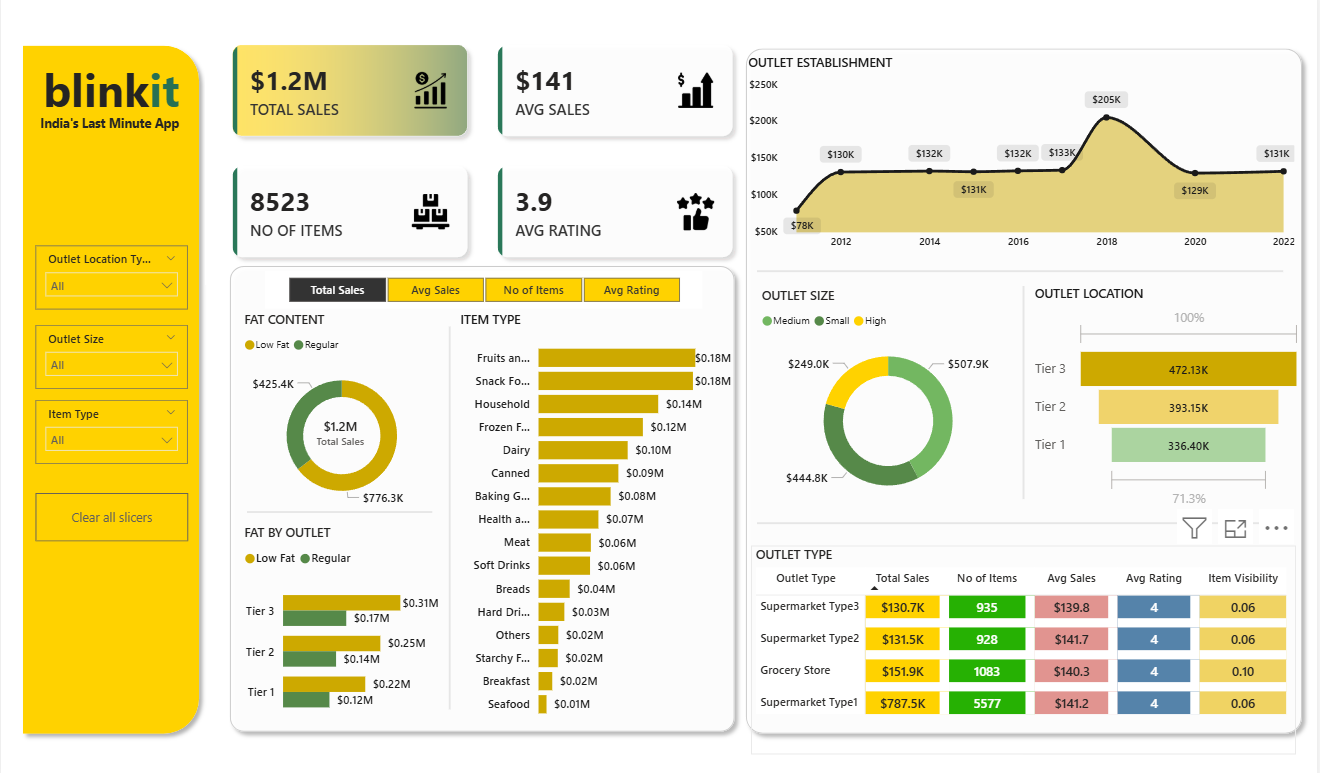

Layout of this report page (visuals, bound fields, positions):
{"tool":"powerbi","page":{"name":"Page 1","canvas":[1400,850],"ordinal":0},"visuals":[{"type":"shape","box":[14.9,51.3,205.4,750.2],"z":0},{"type":"textbox","box":[24.8,67.9,183.8,89.4],"z":1000},{"type":"textbox","box":[36.4,127.5,162.3,44.7],"z":2000},{"type":"cardVisual","fields":{"Data":["BlinkIT Grocery Data.Total Sales","BlinkIT Grocery Data.Avg Sales","BlinkIT Grocery Data.No of Items","BlinkIT Grocery Data.Avg Rating"]},"box":[217,29.8,591.8,284.9],"z":3000},{"type":"shape","box":[234.6,284.9,554.8,513.4],"z":4000},{"type":"donutChart","title":"FAT CONTENT","fields":{"Y":["BlinkIT Grocery Data.Total Sales"],"Category":["BlinkIT Grocery Data.Item Fat Content"]},"box":[253.4,341.2,217,221.9],"z":5000},{"type":"slicer","fields":{"Values":["Matrix.Matrix"]},"box":[280.4,300.3,465.4,39.7],"z":6000},{"type":"cardVisual","fields":{"Data":["BlinkIT Grocery Data.Total Sales"]},"box":[306.2,439.1,109.4,65.6],"z":7000},{"type":"clusteredBarChart","title":"FAT BY OUTLET","fields":{"Y":["BlinkIT Grocery Data.Total Sales"],"Category":["BlinkIT Grocery Data.Outlet Location Type"],"Series":["BlinkIT Grocery Data.Item Fat Content"]},"box":[253.8,567.7,216.9,220],"z":8000},{"type":"shape","box":[261.7,548.2,197.1,14.9],"z":9000},{"type":"shape","box":[470.3,359.4,13.2,407.4],"z":10000},{"type":"barChart","title":"ITEM TYPE","fields":{"Y":["BlinkIT Grocery Data.Total Sales"],"Category":["BlinkIT Grocery Data.Item Type"]},"box":[483.6,341.2,298.1,443.9],"z":11000},{"type":"shape","box":[783.4,54.7,609.5,746.9],"z":12000},{"type":"lineChart","title":"OUTLET ESTABLISHMENT","fields":{"Category":["BlinkIT Grocery Data.Outlet Establishment Year"],"Y":["BlinkIT Grocery Data.Total Sales"]},"box":[790,67.9,591.2,217],"z":13000},{"type":"shape","box":[804.9,294.8,559.8,9.9],"z":14000},{"type":"donutChart","title":"OUTLET SIZE","fields":{"Y":["BlinkIT Grocery Data.Total Sales"],"Category":["BlinkIT Grocery Data.Outlet Size"]},"box":[804.9,316.3,278.2,241.8],"z":15000},{"type":"shape","box":[1079.8,316.3,14.9,226.9],"z":16000},{"type":"funnel","title":"OUTLET LOCATION","fields":{"Category":["BlinkIT Grocery Data.Outlet Location Type"],"Y":["Sum(BlinkIT Grocery Data.Sales)"]},"box":[1094.7,314.7,293.1,241.8],"z":17000},{"type":"shape","box":[804.9,563.1,559.8,9.9],"z":18000},{"type":"pivotTable","title":"OUTLET TYPE","fields":{"Rows":["BlinkIT Grocery Data.Outlet Type"],"Values":["BlinkIT Grocery Data.Total Sales","BlinkIT Grocery Data.No of Items","BlinkIT Grocery Data.Avg Sales","BlinkIT Grocery Data.Avg Rating","Avg(BlinkIT Grocery Data.Item Visibility)"]},"box":[798.3,591.2,579.7,221.9],"z":19000},{"type":"slicer","fields":{"Values":["BlinkIT Grocery Data.Outlet Location Type"]},"box":[36.4,273.3,162.3,67.9],"z":20000},{"type":"slicer","fields":{"Values":["BlinkIT Grocery Data.Outlet Size"]},"box":[36.4,357.7,162.3,67.9],"z":21000},{"type":"slicer","fields":{"Values":["BlinkIT Grocery Data.Item Type"]},"box":[36.4,437.2,162.3,67.9],"z":22000},{"type":"actionButton","box":[35.9,535.9,162.5,51.6],"z":23001}]}

Visuals, with their boxes on the page's 1400x850 design canvas (x1, y1, x2, y2). These are canvas units, not pixel positions in the 1320x773 screenshot, which may show the page scaled, cropped or inside an application window:
shape: x1=15, y1=51, x2=220, y2=802
textbox: x1=25, y1=68, x2=209, y2=157
textbox: x1=36, y1=128, x2=199, y2=172
cardVisual - BlinkIT Grocery Data.Total Sales x BlinkIT Grocery Data.Avg Sales: x1=217, y1=30, x2=809, y2=315
shape: x1=235, y1=285, x2=789, y2=798
"FAT CONTENT" donutChart: x1=253, y1=341, x2=470, y2=563
slicer - Matrix.Matrix: x1=280, y1=300, x2=746, y2=340
cardVisual - BlinkIT Grocery Data.Total Sales: x1=306, y1=439, x2=416, y2=505
"FAT BY OUTLET" clusteredBarChart: x1=254, y1=568, x2=471, y2=788
shape: x1=262, y1=548, x2=459, y2=563
shape: x1=470, y1=359, x2=484, y2=767
"ITEM TYPE" barChart: x1=484, y1=341, x2=782, y2=785
shape: x1=783, y1=55, x2=1393, y2=802
"OUTLET ESTABLISHMENT" lineChart: x1=790, y1=68, x2=1381, y2=285
shape: x1=805, y1=295, x2=1365, y2=305
"OUTLET SIZE" donutChart: x1=805, y1=316, x2=1083, y2=558
shape: x1=1080, y1=316, x2=1095, y2=543
"OUTLET LOCATION" funnel: x1=1095, y1=315, x2=1388, y2=556
shape: x1=805, y1=563, x2=1365, y2=573
"OUTLET TYPE" pivotTable: x1=798, y1=591, x2=1378, y2=813
slicer - BlinkIT Grocery Data.Outlet Location Type: x1=36, y1=273, x2=199, y2=341
slicer - BlinkIT Grocery Data.Outlet Size: x1=36, y1=358, x2=199, y2=426
slicer - BlinkIT Grocery Data.Item Type: x1=36, y1=437, x2=199, y2=505
actionButton: x1=36, y1=536, x2=198, y2=588
